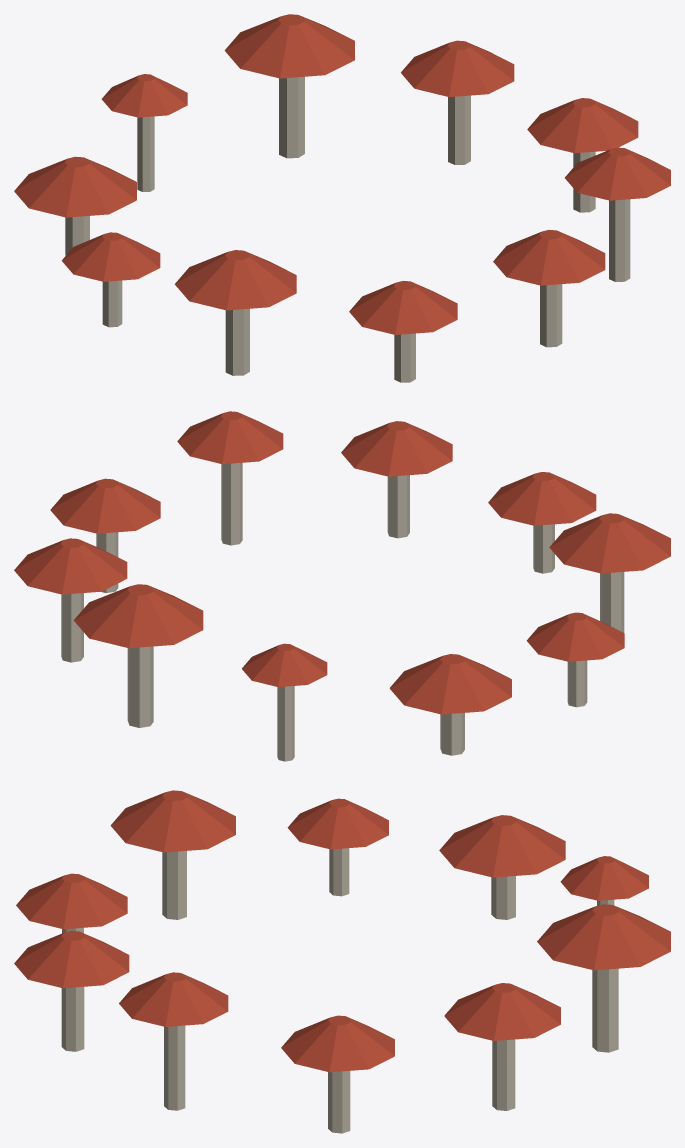
The model's file is MushroomRing.glb.
3 renders of one model, top to bottom at view 1: azimuth 30°, elevation 25°; view 2: azimuth 150°, elevation 25°; view 3: azimuth 270°, elevation 25°, orthographic. The views are drawn at different scales.
Visible parts, largest first — view 1: Body; view 2: Body; view 3: Body.
Boxes of the visible parts, left/top/right/bottom form: Body: left=14, top=14, right=670, bottom=382; Body: left=14, top=411, right=670, bottom=761; Body: left=14, top=790, right=670, bottom=1133.
Bounding box in the file's own units: 5.26 × 1.19 × 5.16.
